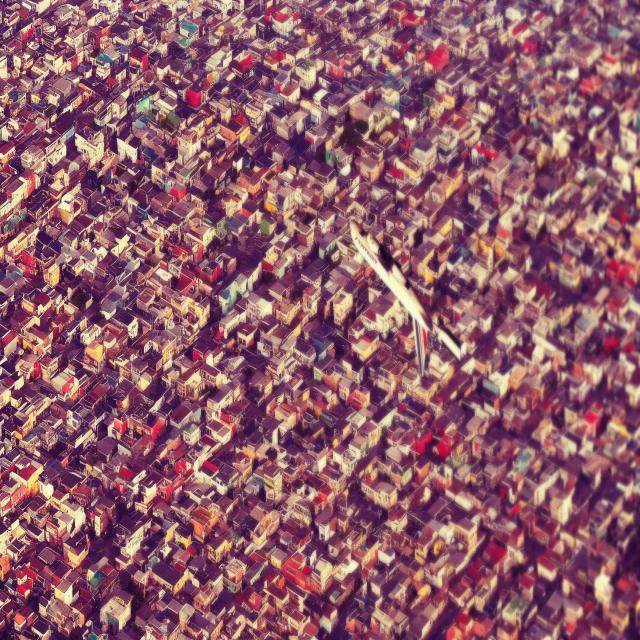airplane: (348, 217, 466, 377)
